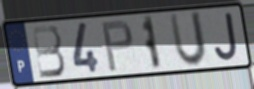1: (140, 14, 164, 72)
4: (71, 21, 103, 76)
B: (30, 24, 68, 80)
J: (213, 11, 240, 63)
P: (100, 18, 135, 73)
U: (167, 10, 209, 69)
